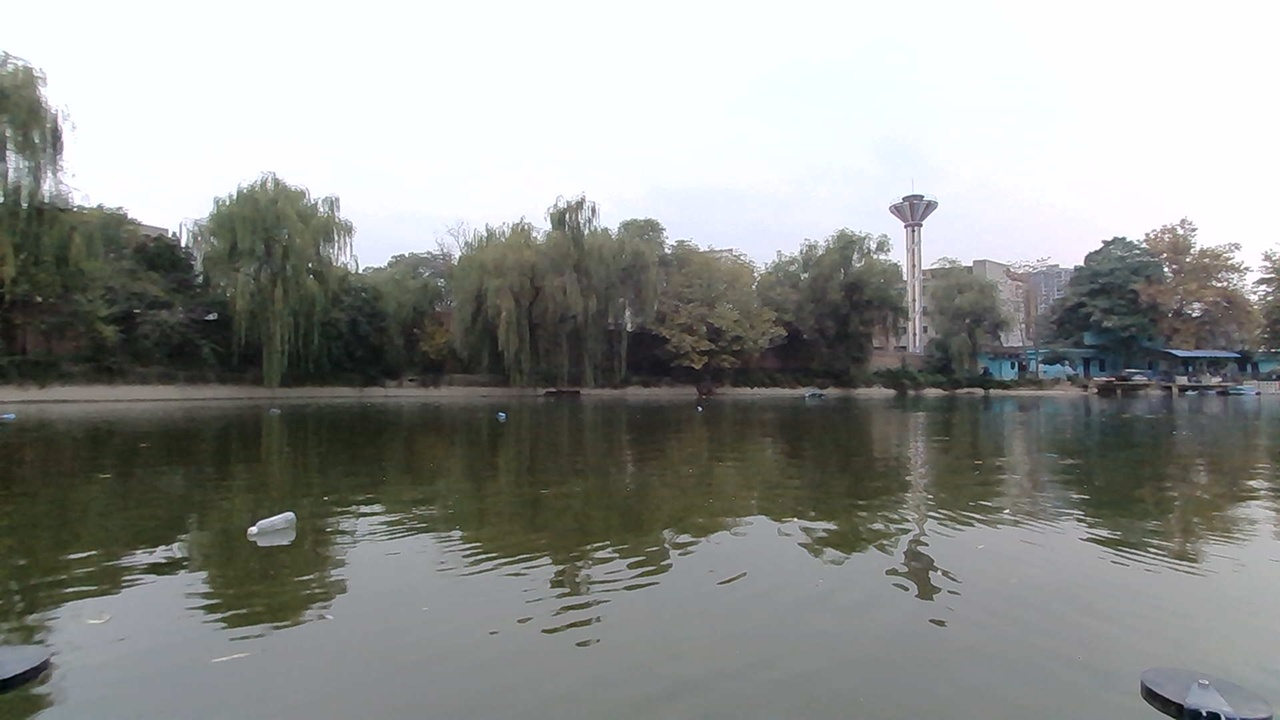bottle: (245, 514, 304, 543), (484, 404, 515, 422)
